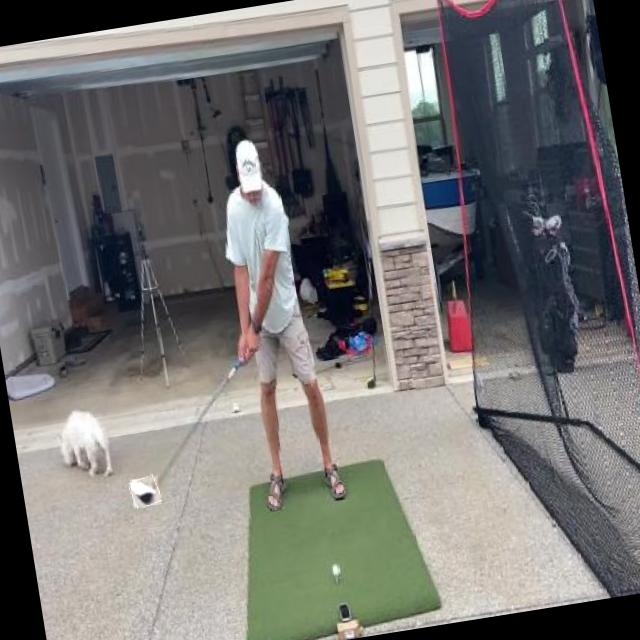club head: (130, 476, 162, 508)
